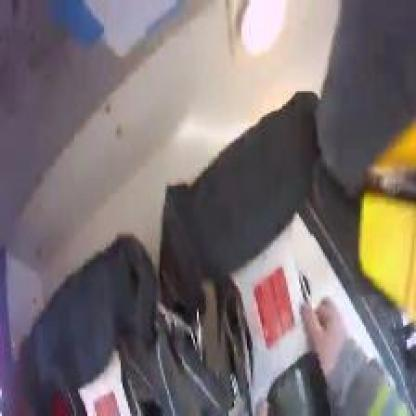other: (348, 150, 412, 292), (225, 5, 299, 50), (249, 270, 294, 340), (78, 389, 119, 412)
